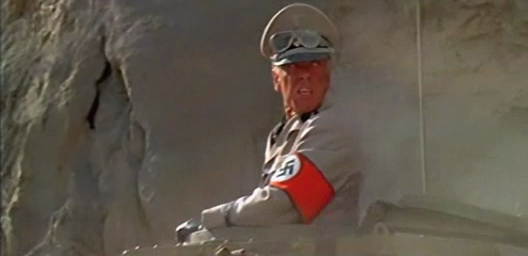face: (287, 59, 325, 110)
ms: (1, 1, 528, 256)
person: (175, 2, 367, 256)
